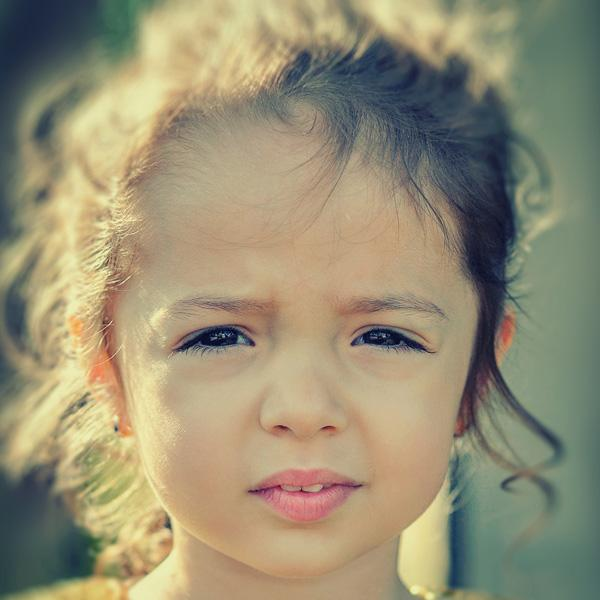Eyes: (168, 315, 266, 366), (339, 315, 438, 364)
